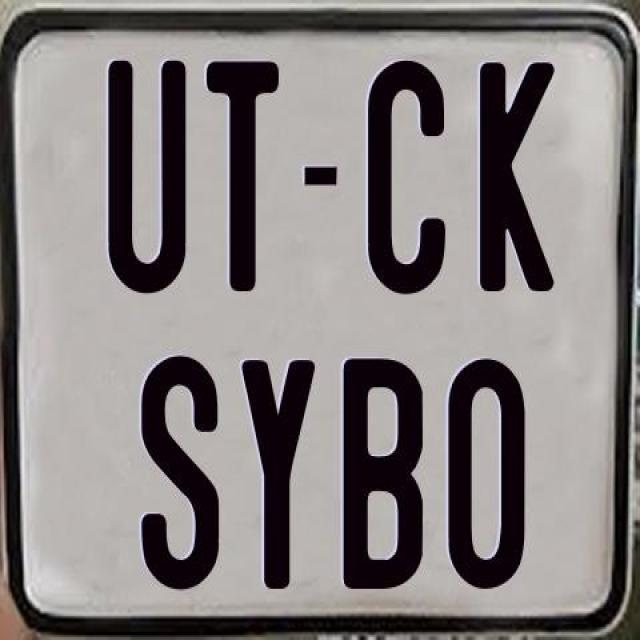0: (444, 358, 524, 594)
B: (342, 356, 419, 590)
C: (364, 59, 448, 301)
K: (479, 58, 562, 292)
S: (140, 356, 222, 598)
T: (204, 58, 282, 296)
U: (106, 61, 192, 301)
Y: (241, 357, 320, 590)
